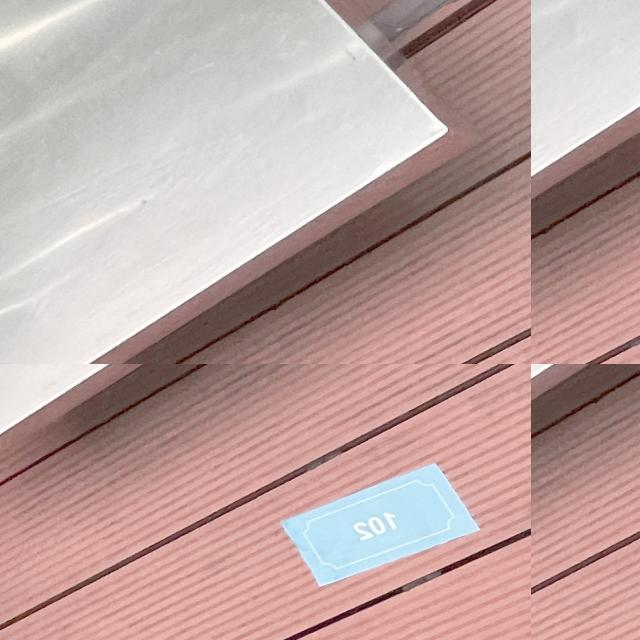Card: (0, 128, 234, 364), (531, 0, 640, 364), (62, 364, 258, 378)
